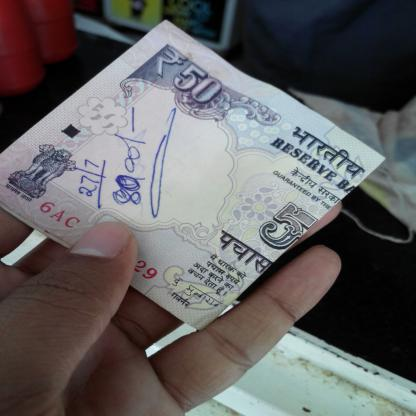Old50Front: (0, 18, 387, 332)
